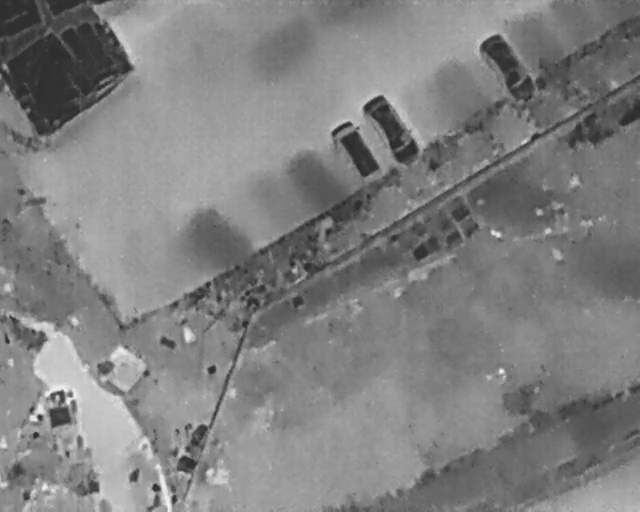Car: (358, 87, 427, 170), (473, 28, 540, 109), (326, 116, 385, 187)
